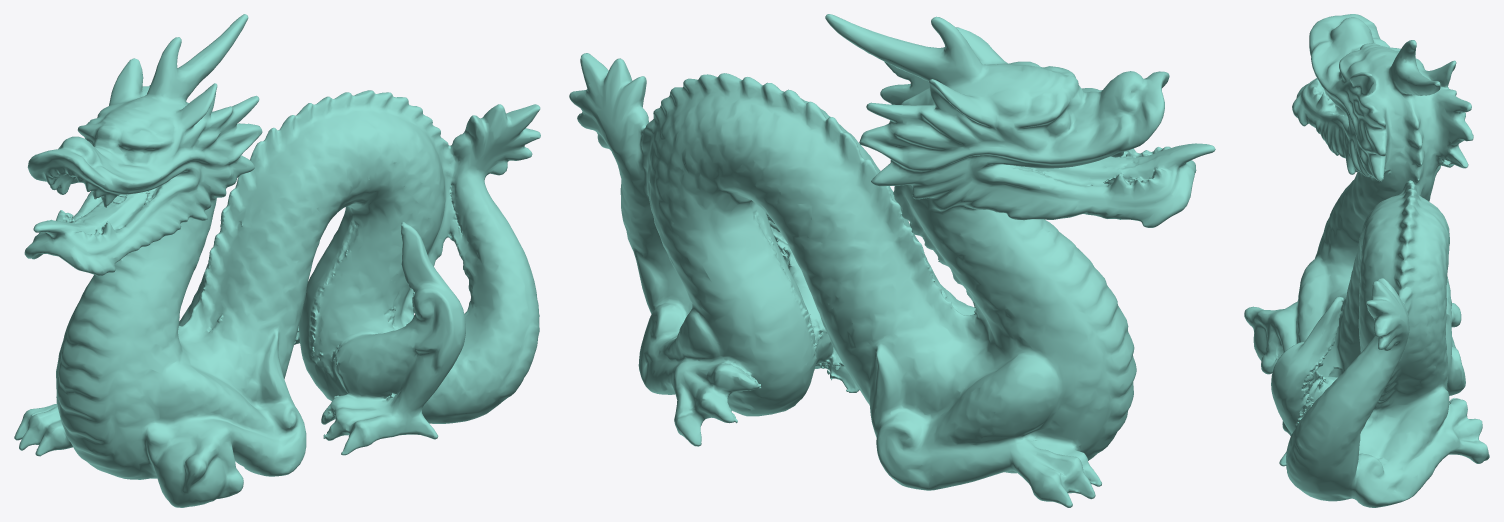
Rendered from Dragon.fbx.
The picture shows the model from 3 angles, left to right: view 1: azimuth 30°, elevation 25°; view 2: azimuth 150°, elevation 25°; view 3: azimuth 270°, elevation 25°; orthographic projection. The views are drawn at different scales.
Parts seen in each view (by area): view 1: Mesh; view 2: Mesh; view 3: Mesh.
Part boxes in pixels (x1,y1,x2,y2): Mesh: [14, 14, 540, 507]; Mesh: [569, 14, 1215, 507]; Mesh: [1244, 14, 1489, 507].
Bounding box in the file's own units: 14.09 × 9.94 × 6.3.
